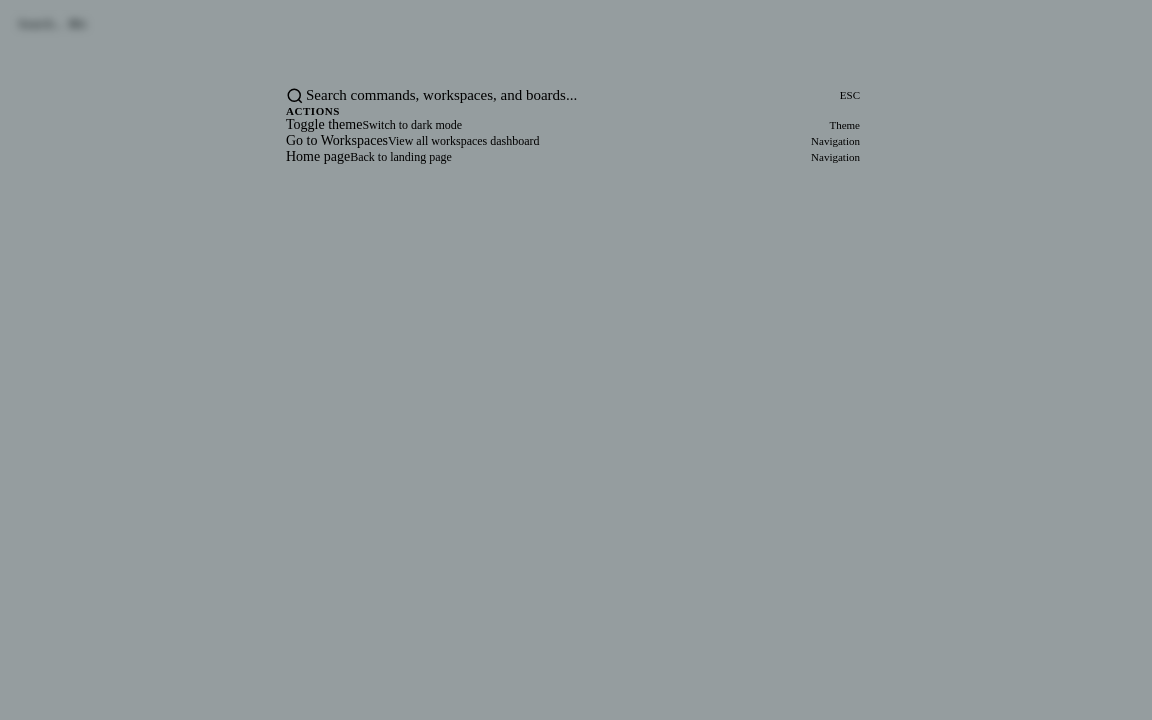
CommandPalette › shows empty message when no commands match query
The image size is (1152, 720).
Type "nonexistentcommandhere" into the field with placeholder "Search commands, workspaces, and boards..." at (569, 96), box [304,86,834,105]
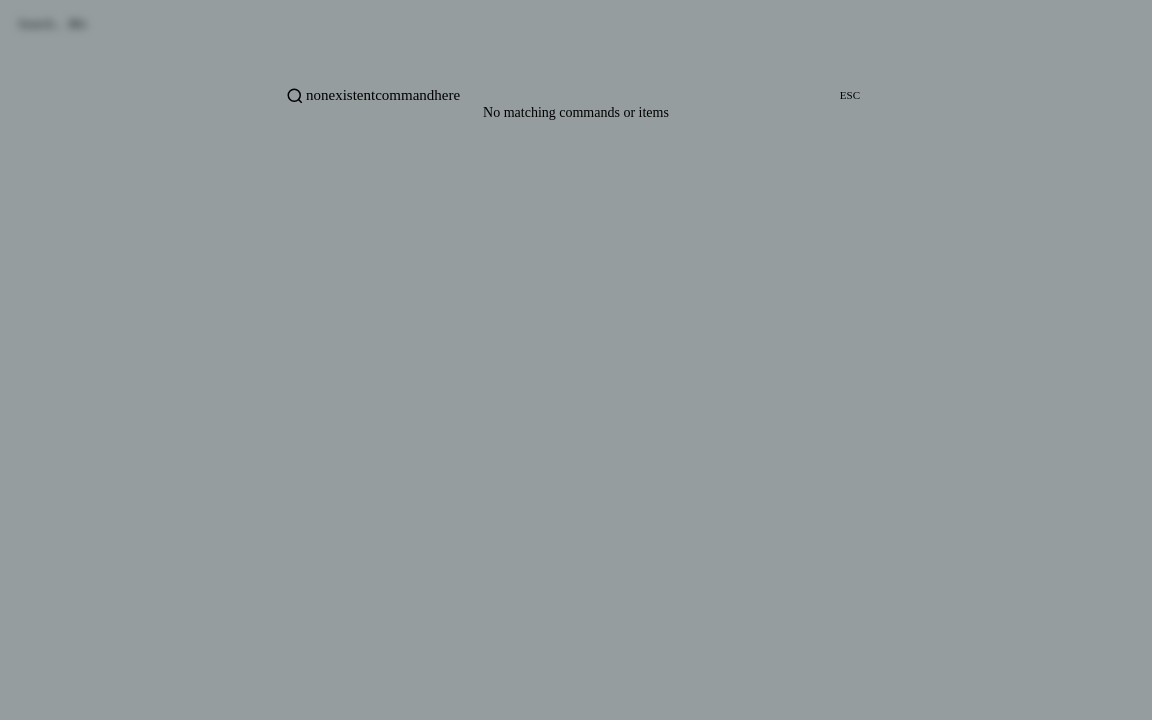
expect the text "No matching commands or items" is shown: met, box [483,105,669,120]
